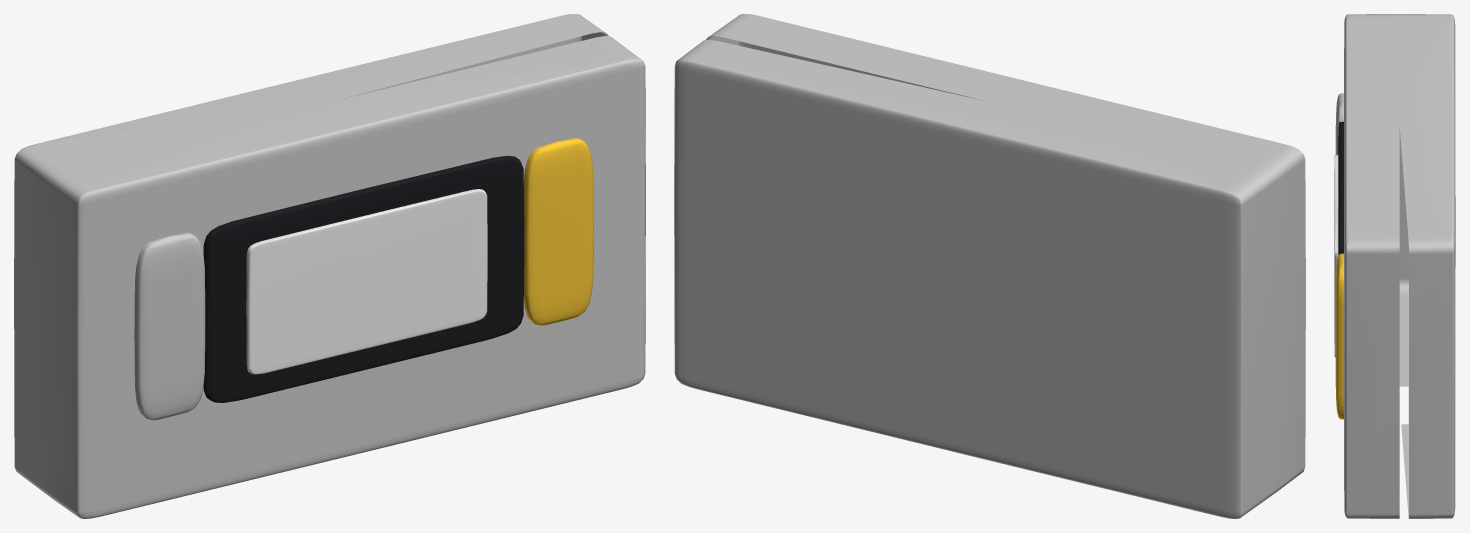
Rendered from console_handheld_box.fbx.
3 views of the same model, side by side, from view 1: azimuth 30°, elevation 25°; view 2: azimuth 150°, elevation 25°; view 3: azimuth 270°, elevation 25° (orthographic). The views are drawn at different scales.
Parts seen in each view (by area): view 1: console_handheld_box; view 2: console_handheld_box; view 3: console_handheld_box.
Part boxes in pixels (x1,y1,x2,y2): console_handheld_box: [14, 14, 645, 518]; console_handheld_box: [674, 14, 1305, 518]; console_handheld_box: [1334, 14, 1455, 518].
Size of the model in its own units: 1 by 0.55 by 0.217.
